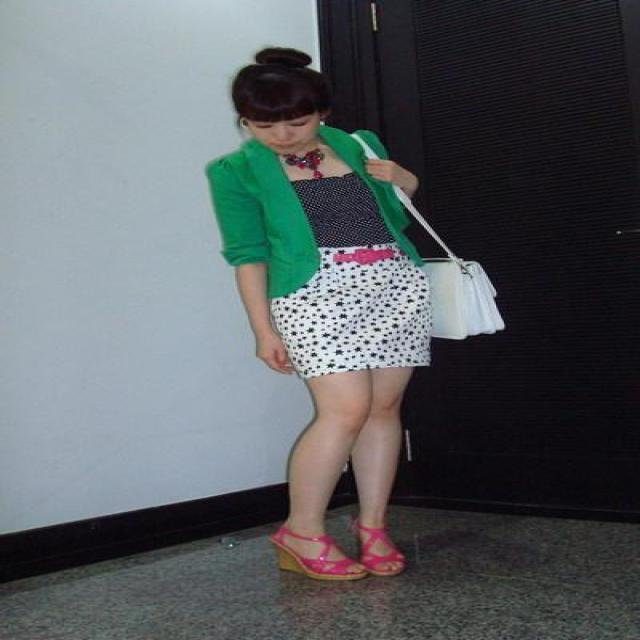bag: (408, 218, 502, 339)
jacket: (206, 126, 448, 299)
shirt: (291, 166, 392, 244)
shoe: (268, 525, 402, 579)
skirt: (272, 243, 453, 377)
